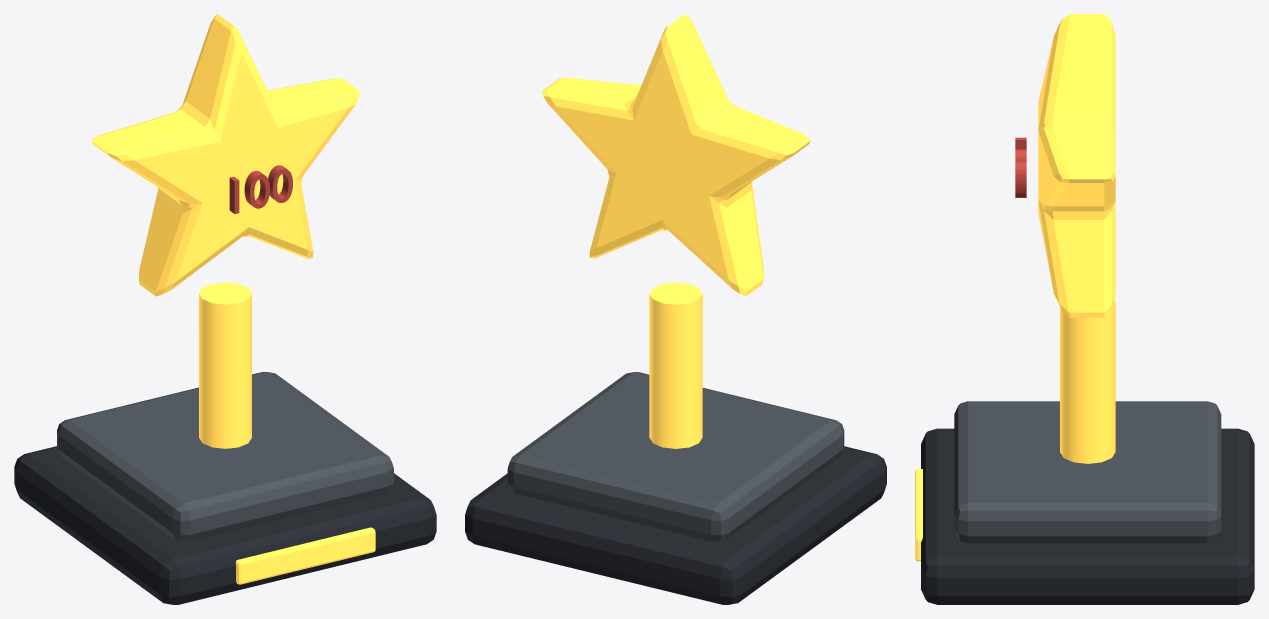
Rendered from trofeu-estrela-do-mural.glb.
3 views of the same model, side by side, from view 1: azimuth 30°, elevation 25°; view 2: azimuth 150°, elevation 25°; view 3: azimuth 270°, elevation 25° (orthographic). The views are drawn at different scales.
Visible parts, largest first — view 1: trofeu-estrela-do-mural; view 2: trofeu-estrela-do-mural; view 3: trofeu-estrela-do-mural.
Boxes of the visible parts, box(x1,y1,x2,y2) form: trofeu-estrela-do-mural: box(14, 14, 436, 604); trofeu-estrela-do-mural: box(465, 14, 886, 604); trofeu-estrela-do-mural: box(915, 14, 1254, 604).
Bounding box in the file's own units: 0.6 × 1.05 × 0.61.
